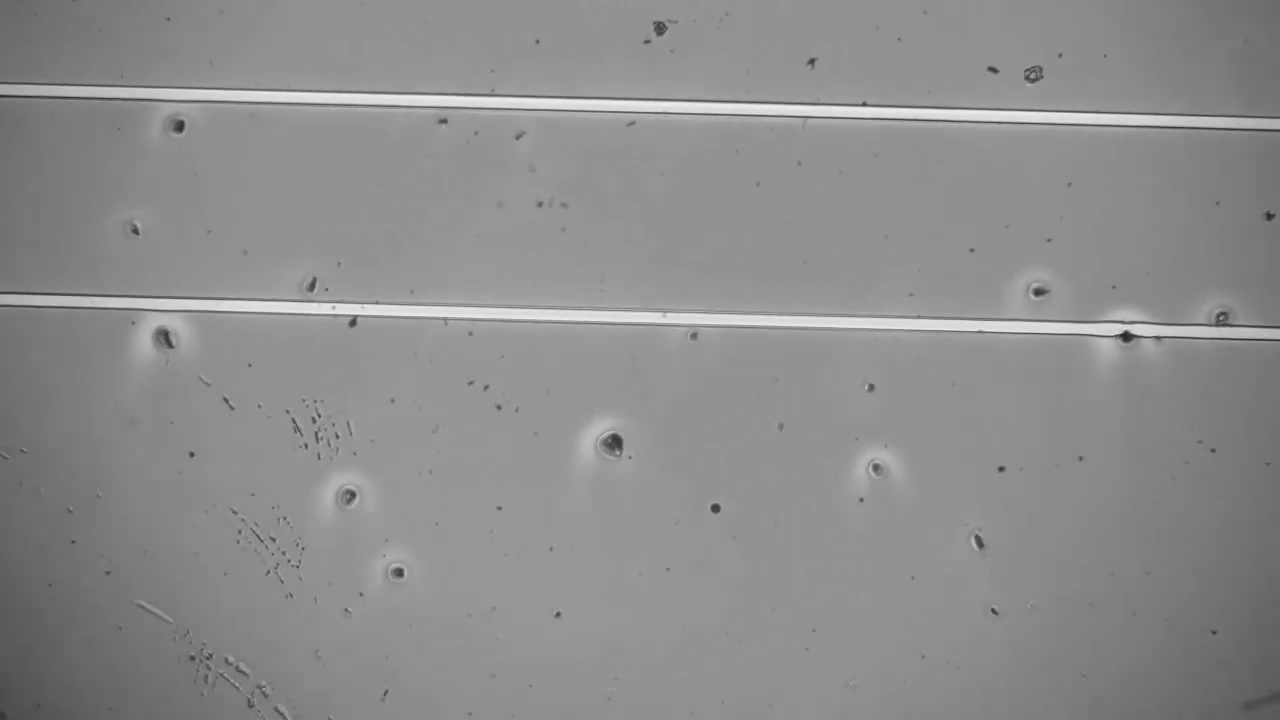stains_enbedded: (1108, 312, 1149, 356)
